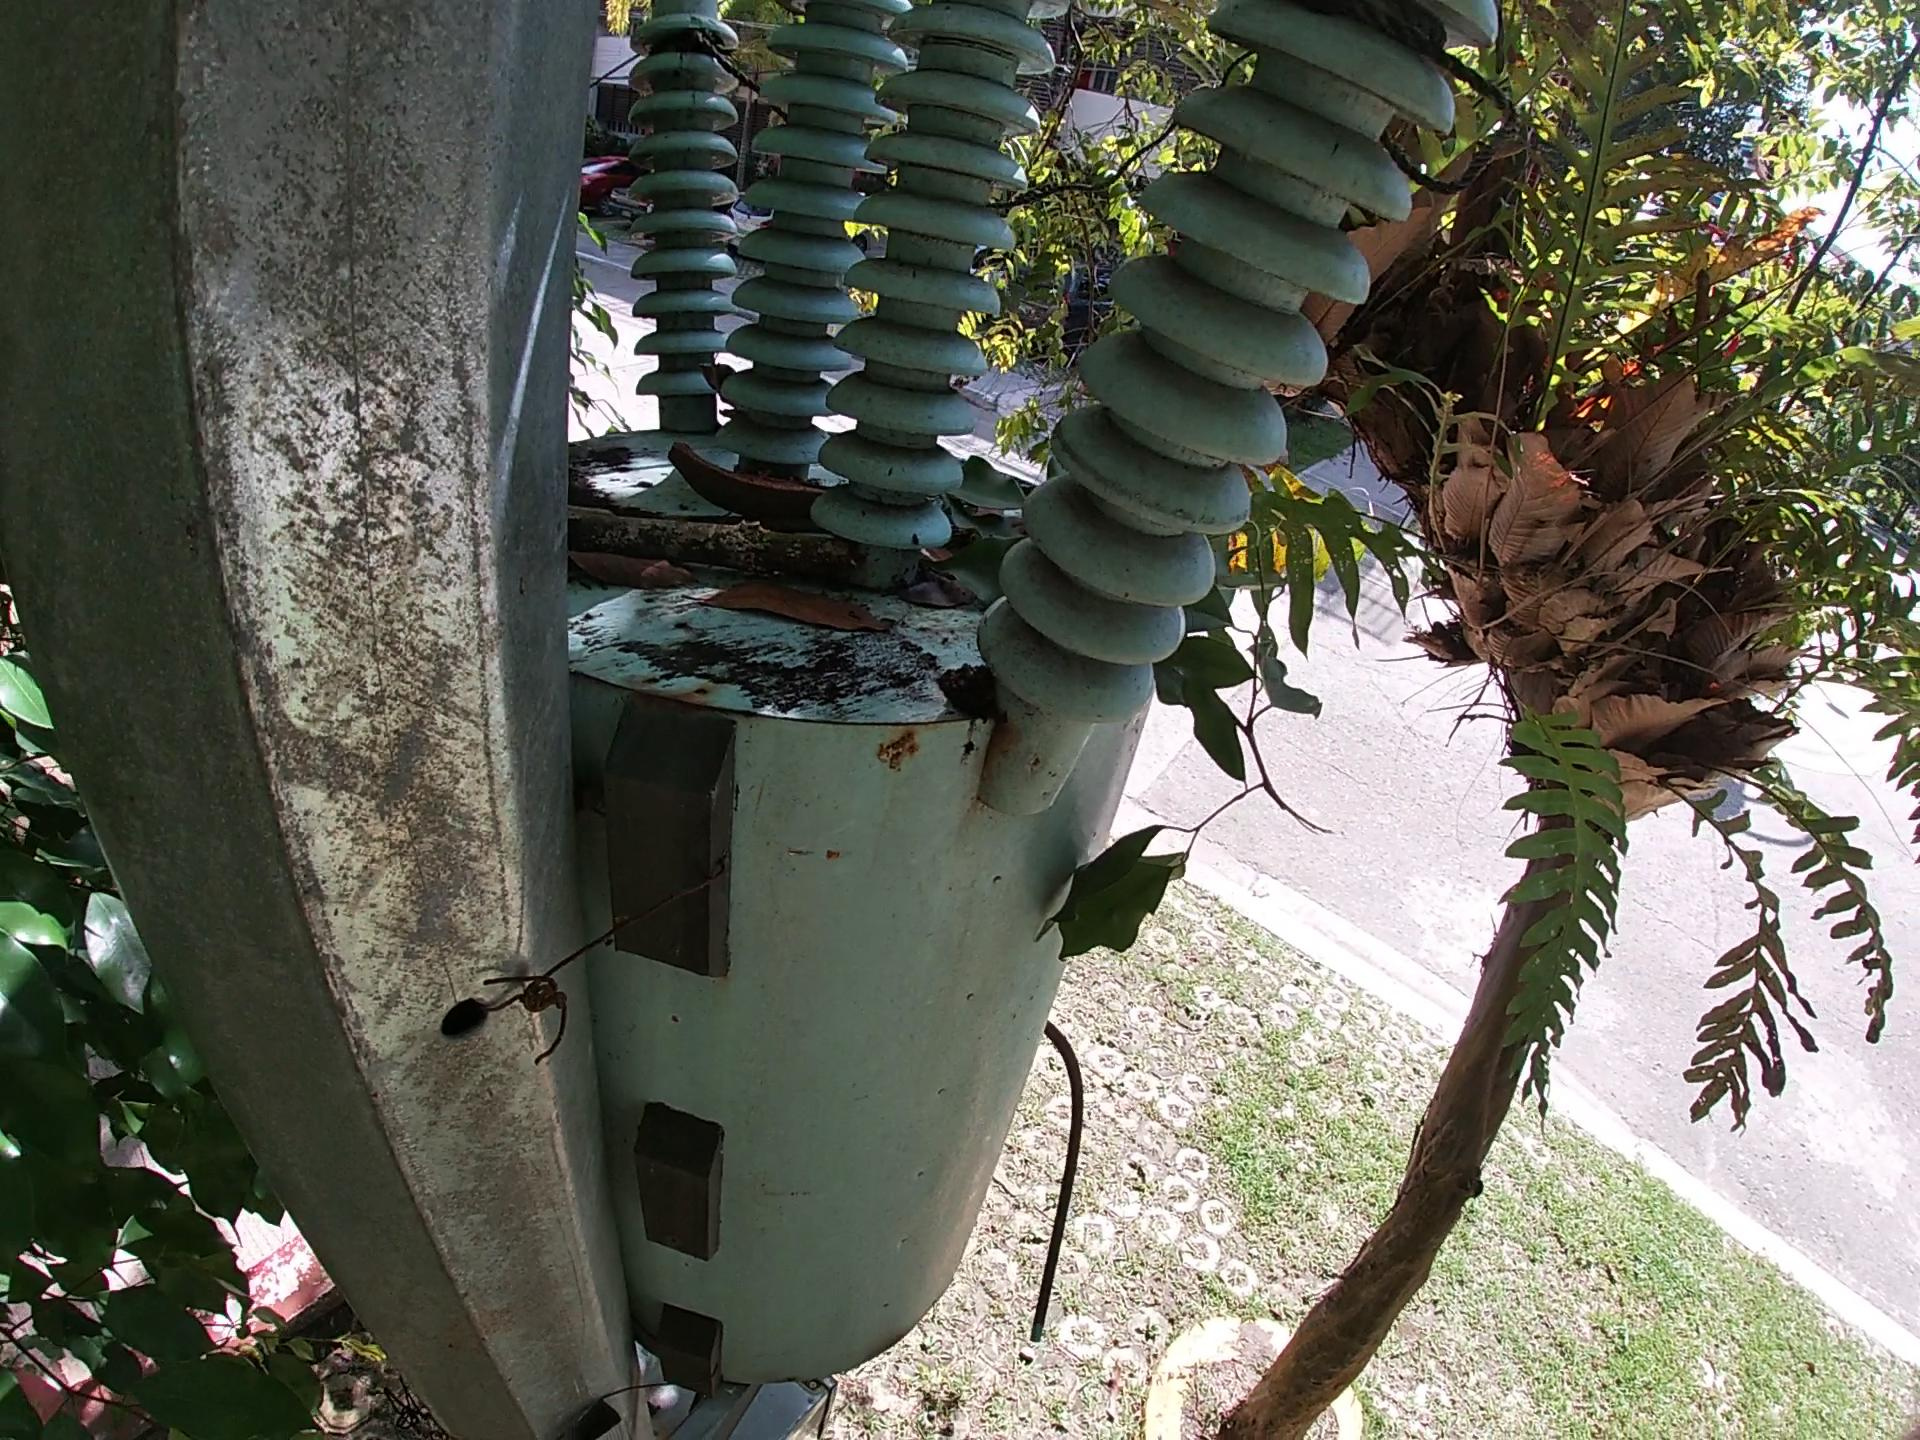branch with leaves: (1055, 525, 1352, 1003)
leaf: (931, 439, 1034, 593), (674, 582, 892, 632), (559, 543, 683, 587)
mahogany fruit: (653, 434, 848, 520)
tree branch: (547, 493, 842, 558)
